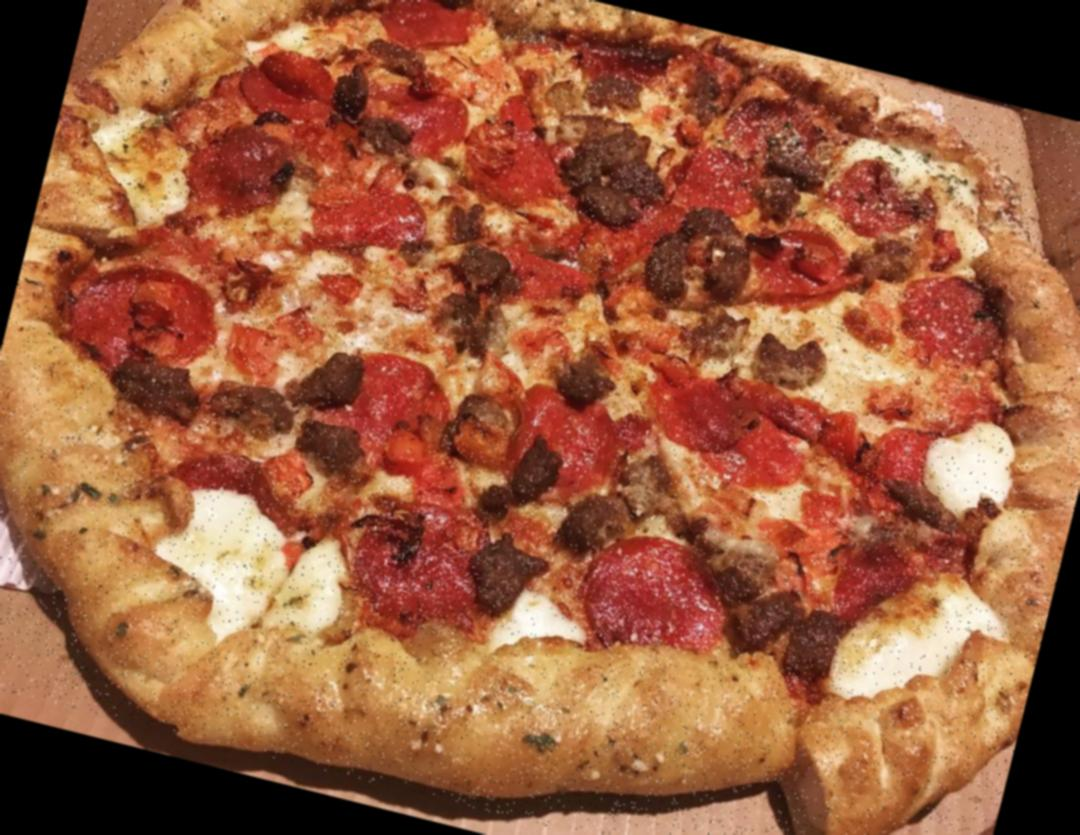Pepperoni: (573, 524, 741, 672), (345, 490, 498, 631), (892, 266, 1016, 370), (819, 152, 946, 248), (828, 536, 936, 640), (858, 422, 954, 520), (720, 90, 828, 176)
Pizza: (0, 0, 1080, 835)
Tomatoes: (639, 359, 821, 495), (60, 250, 226, 379), (326, 346, 458, 479), (499, 382, 627, 498), (302, 172, 432, 267), (564, 191, 686, 290), (458, 113, 574, 206), (741, 220, 852, 312), (356, 76, 468, 163), (230, 36, 342, 122), (489, 248, 596, 321), (670, 145, 758, 230), (379, 0, 475, 56)
